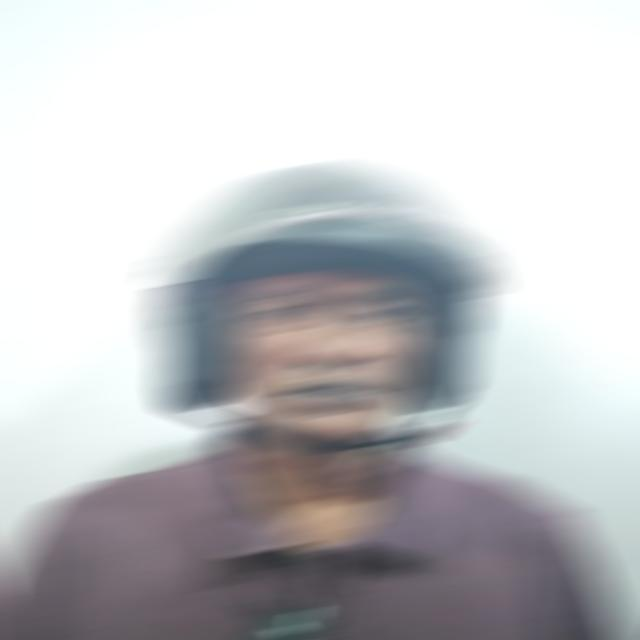With Helmet: (146, 161, 499, 412)
